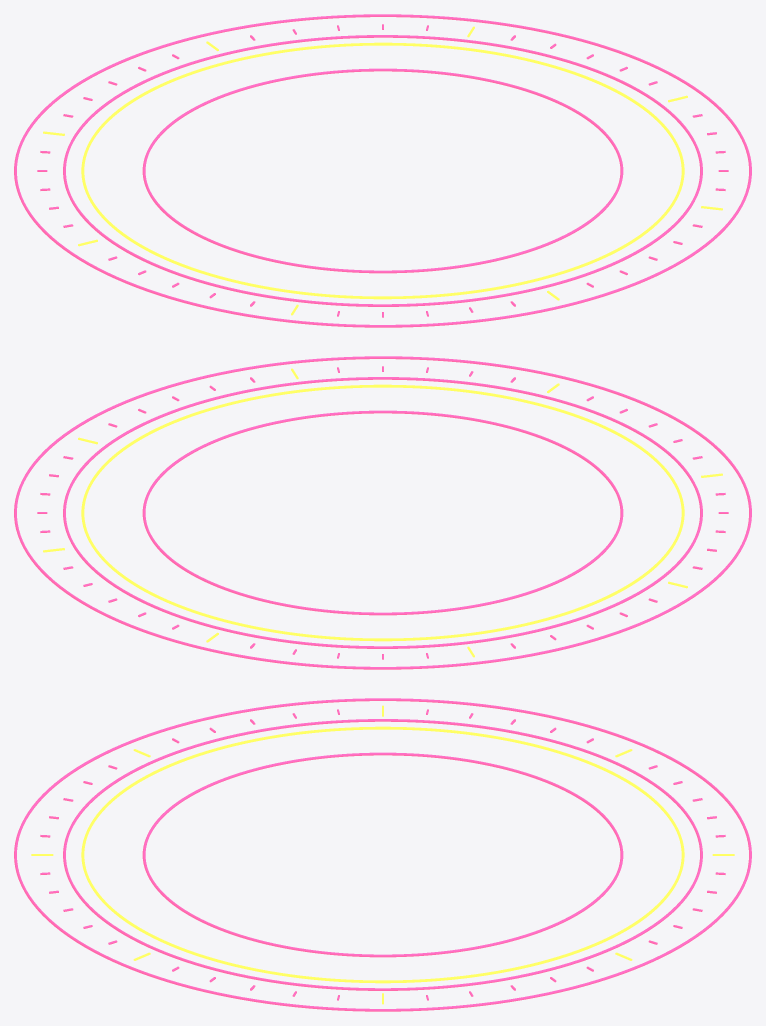
Rendered from hudframe.glb.
The picture shows the model from 3 angles, top to bottom: view 1: azimuth 30°, elevation 25°; view 2: azimuth 150°, elevation 25°; view 3: azimuth 270°, elevation 25°; orthographic projection.
Visible parts, largest first — view 1: Torus.003, Torus, Torus.001, Torus.002; view 2: Torus.003, Torus, Torus.001, Torus.002; view 3: Torus.003, Torus, Torus.001, Torus.002.
Part boxes in pixels (x1,y1,x2,y2): Torus.003: [14, 14, 751, 327]; Torus: [63, 35, 702, 306]; Torus.001: [81, 42, 684, 299]; Torus.002: [142, 68, 623, 273]; Torus.003: [14, 356, 751, 669]; Torus: [63, 377, 702, 648]; Torus.001: [81, 384, 684, 641]; Torus.002: [142, 410, 623, 615]; Torus.003: [14, 698, 751, 1011]; Torus: [63, 719, 702, 990]; Torus.001: [81, 726, 684, 983]; Torus.002: [142, 752, 623, 957].
Bounding box in the file's own units: 6.02 × 0.024 × 6.02.
